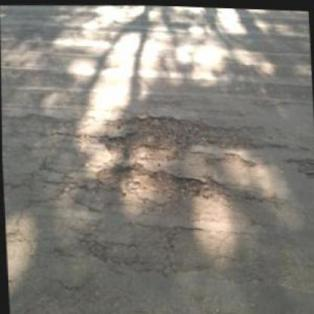Hueco: (94, 159, 225, 208), (98, 110, 214, 165)
